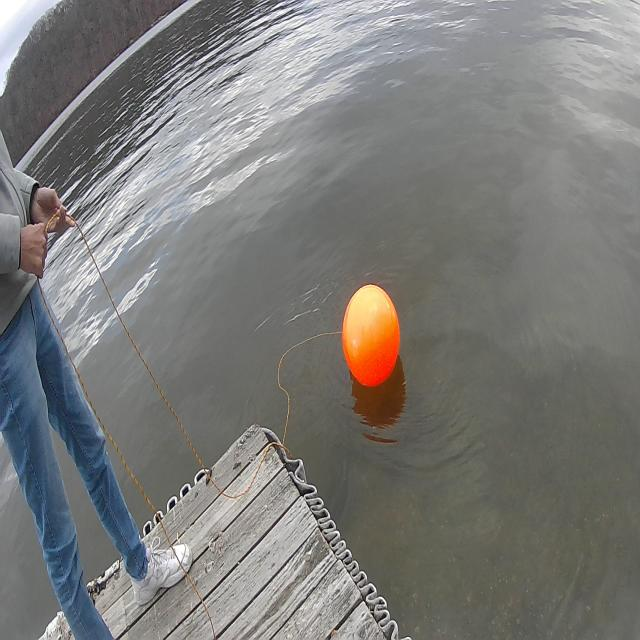Buoy: (341, 281, 405, 392)
